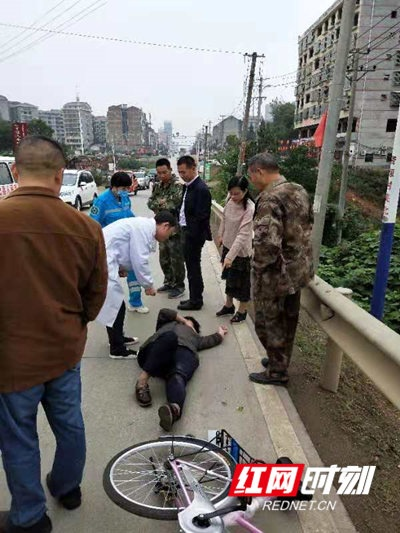falling: (127, 295, 234, 441)
